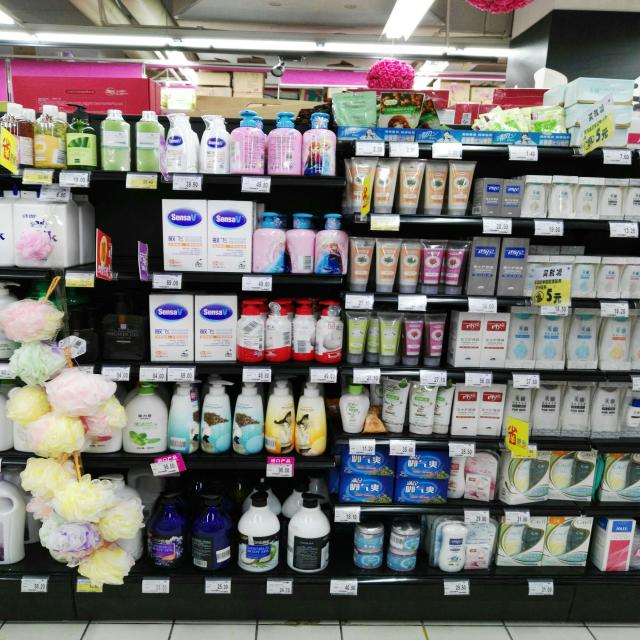void: (136, 186, 168, 272), (79, 188, 109, 271), (114, 190, 135, 272)
